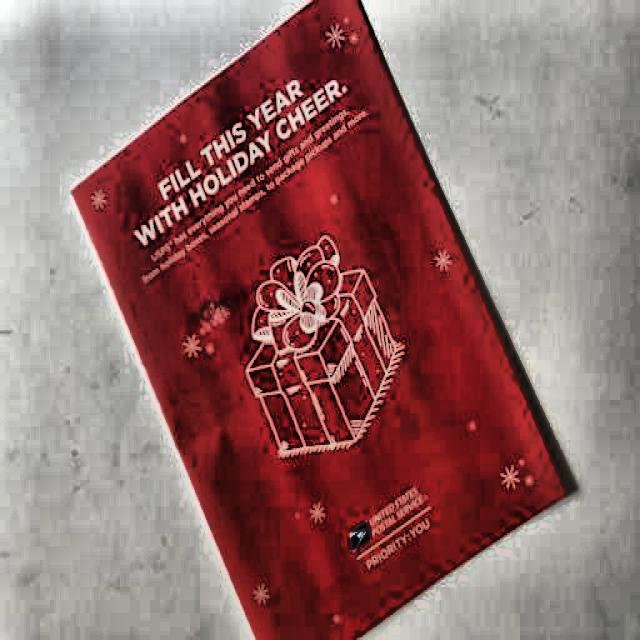paper: (63, 1, 568, 640)
